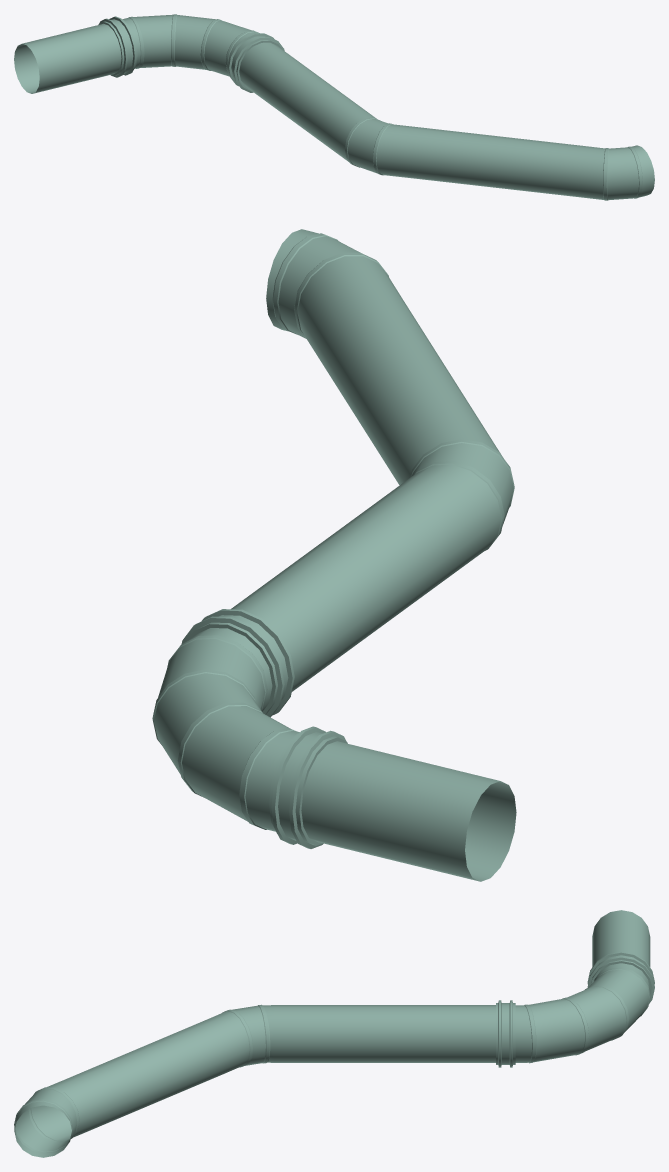
The model's file is PipeComplexLarge_B_02.fbx.
The picture shows the model from 3 angles, top to bottom: view 1: azimuth 30°, elevation 25°; view 2: azimuth 150°, elevation 25°; view 3: azimuth 270°, elevation 25°; orthographic projection. The views are drawn at different scales.
Visible parts, largest first — view 1: PipeComplexLarge_B_02.001; view 2: PipeComplexLarge_B_02.001; view 3: PipeComplexLarge_B_02.001.
Part boxes in pixels (<box>): PipeComplexLarge_B_02.001: <box>14,14,654,200</box>; PipeComplexLarge_B_02.001: <box>152,229,516,881</box>; PipeComplexLarge_B_02.001: <box>14,910,654,1157</box>.
Size of the model in its own units: 1.6 by 0.2334 by 2.22.
